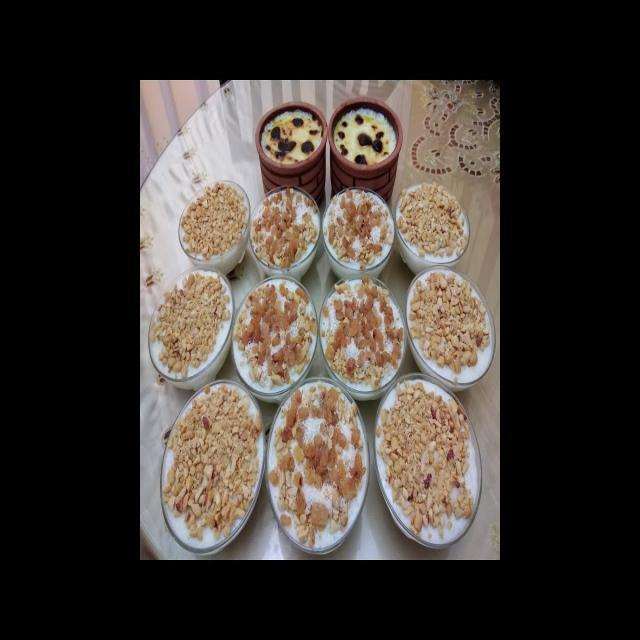roz blabn: (376, 374, 484, 550), (265, 378, 373, 553), (158, 380, 262, 552), (407, 266, 495, 386), (233, 276, 319, 390), (148, 269, 232, 383), (319, 276, 404, 388), (176, 181, 252, 269), (249, 189, 319, 279), (397, 179, 469, 264), (325, 188, 395, 273)
